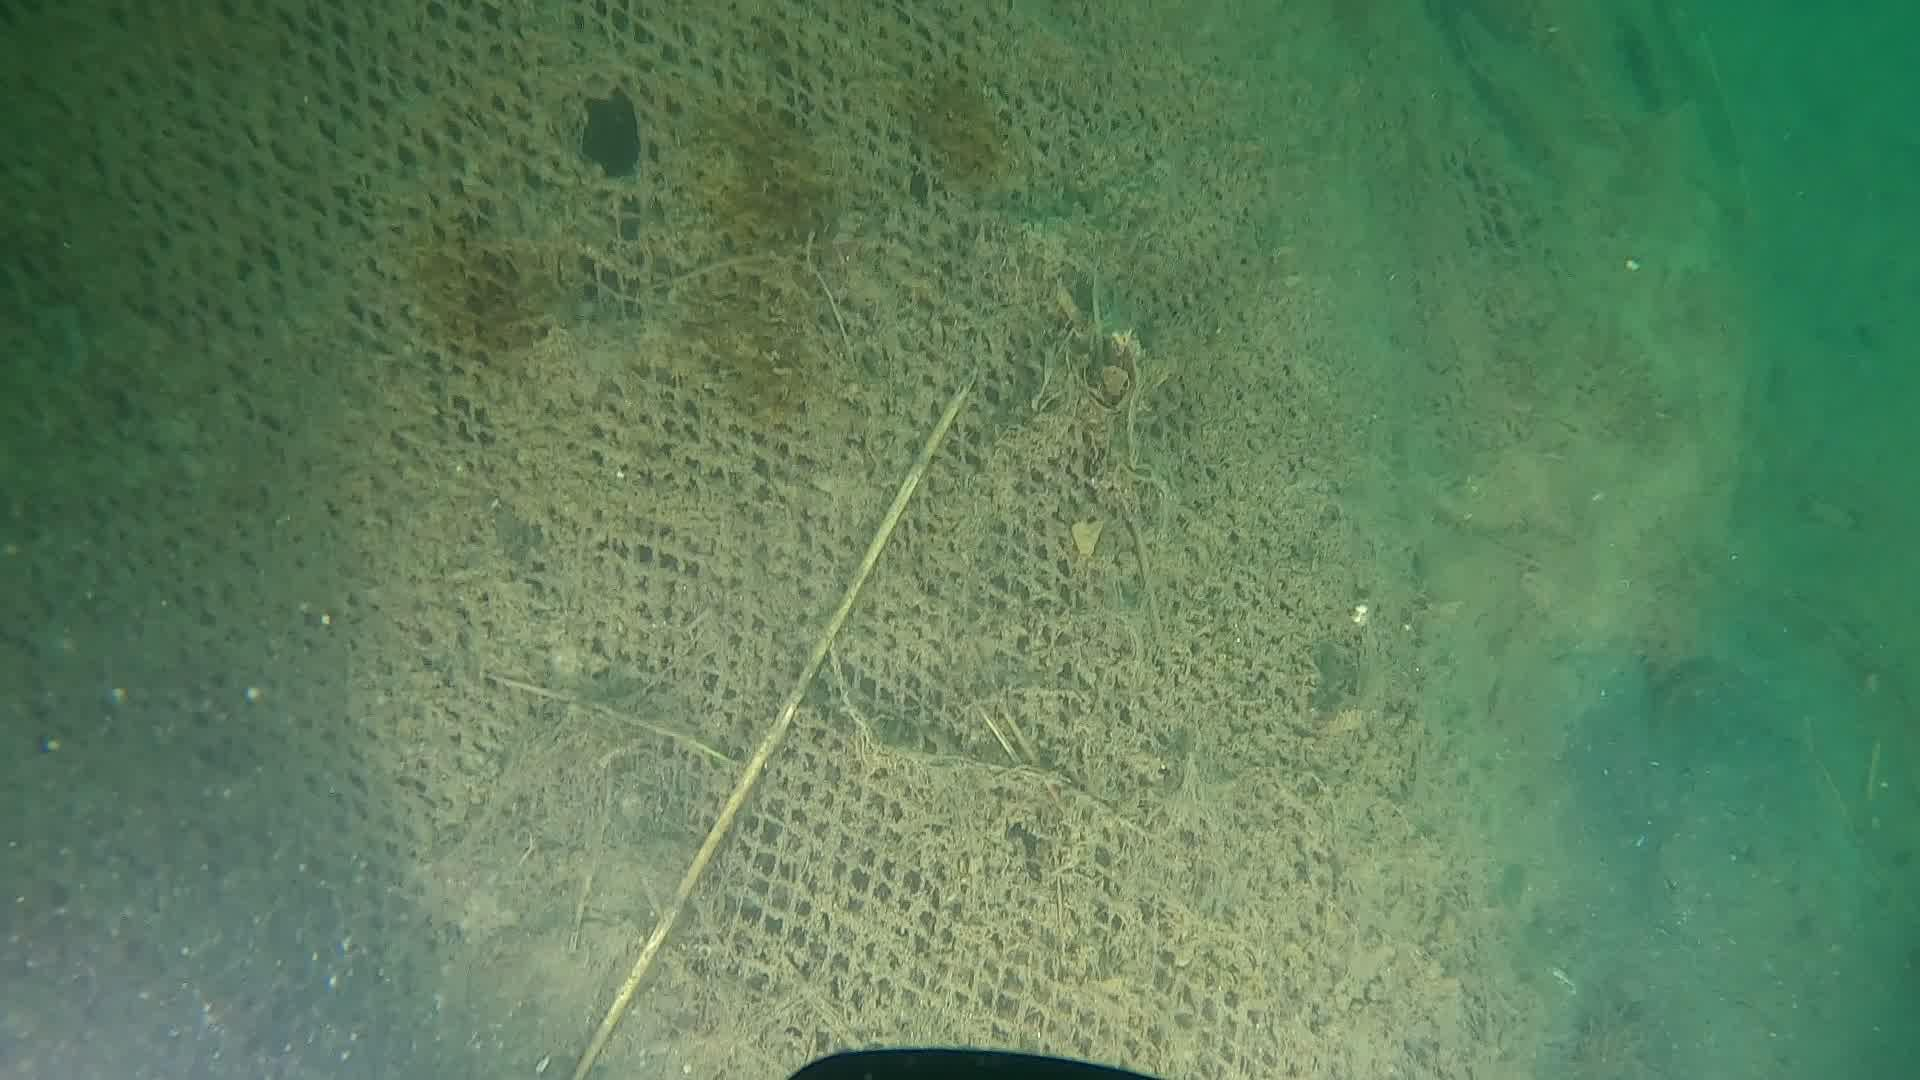fish net: (0, 0, 1436, 1080)
